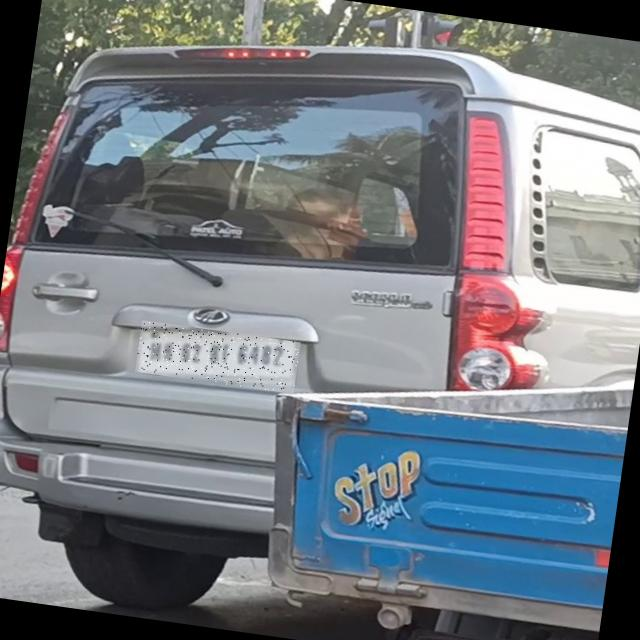Plate: (136, 321, 302, 395)
